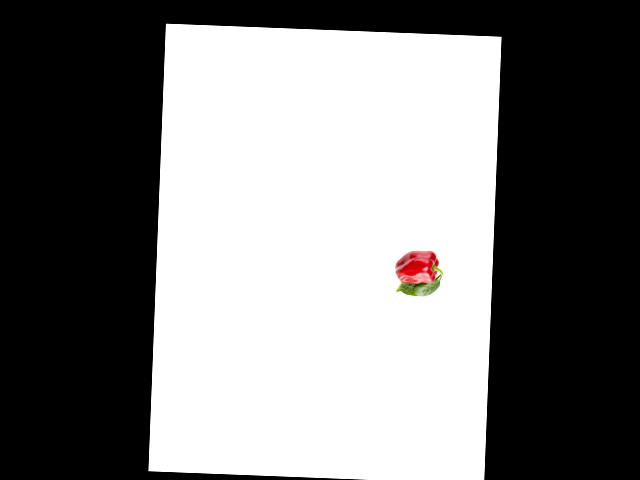bell_pepper: (393, 245, 443, 287)
